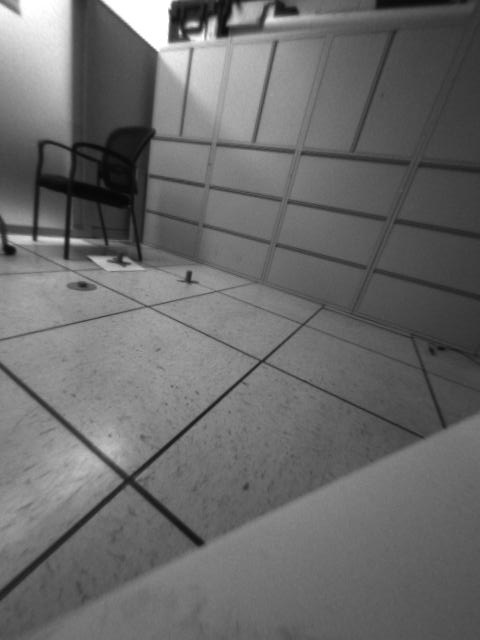X: (179, 266, 199, 287), (109, 250, 131, 268)
